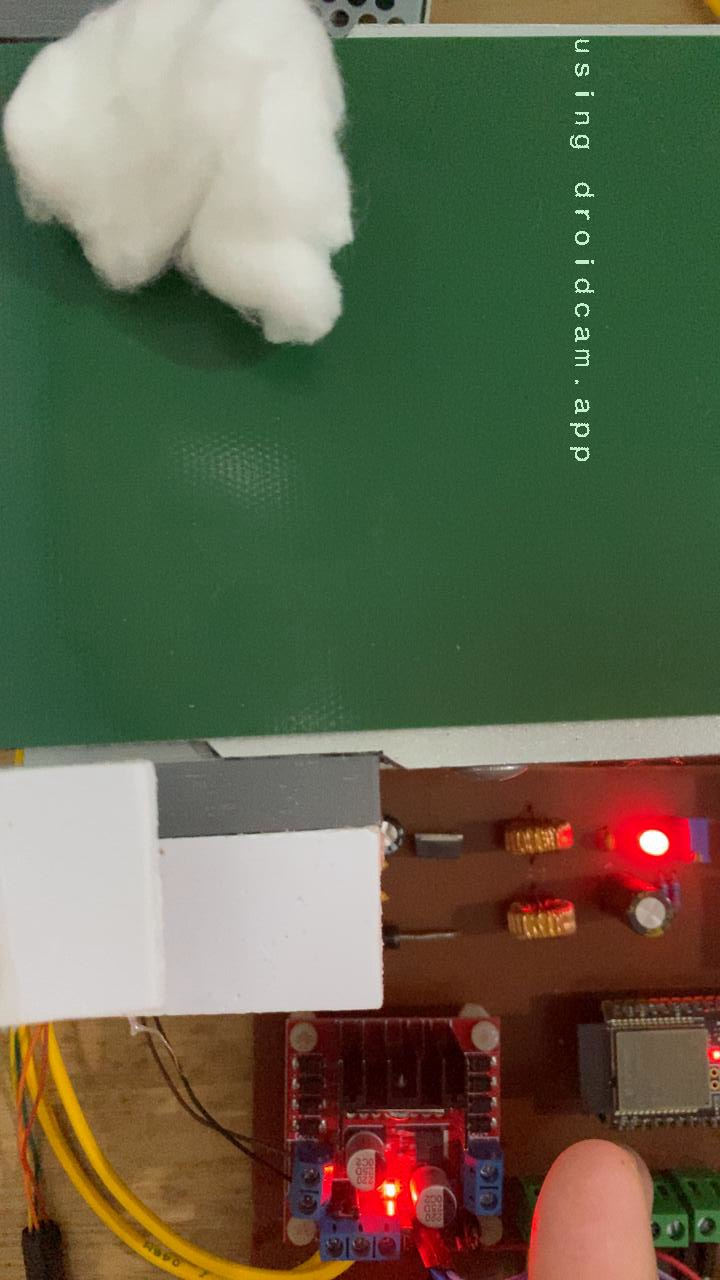cotton: (0, 37, 362, 350)
